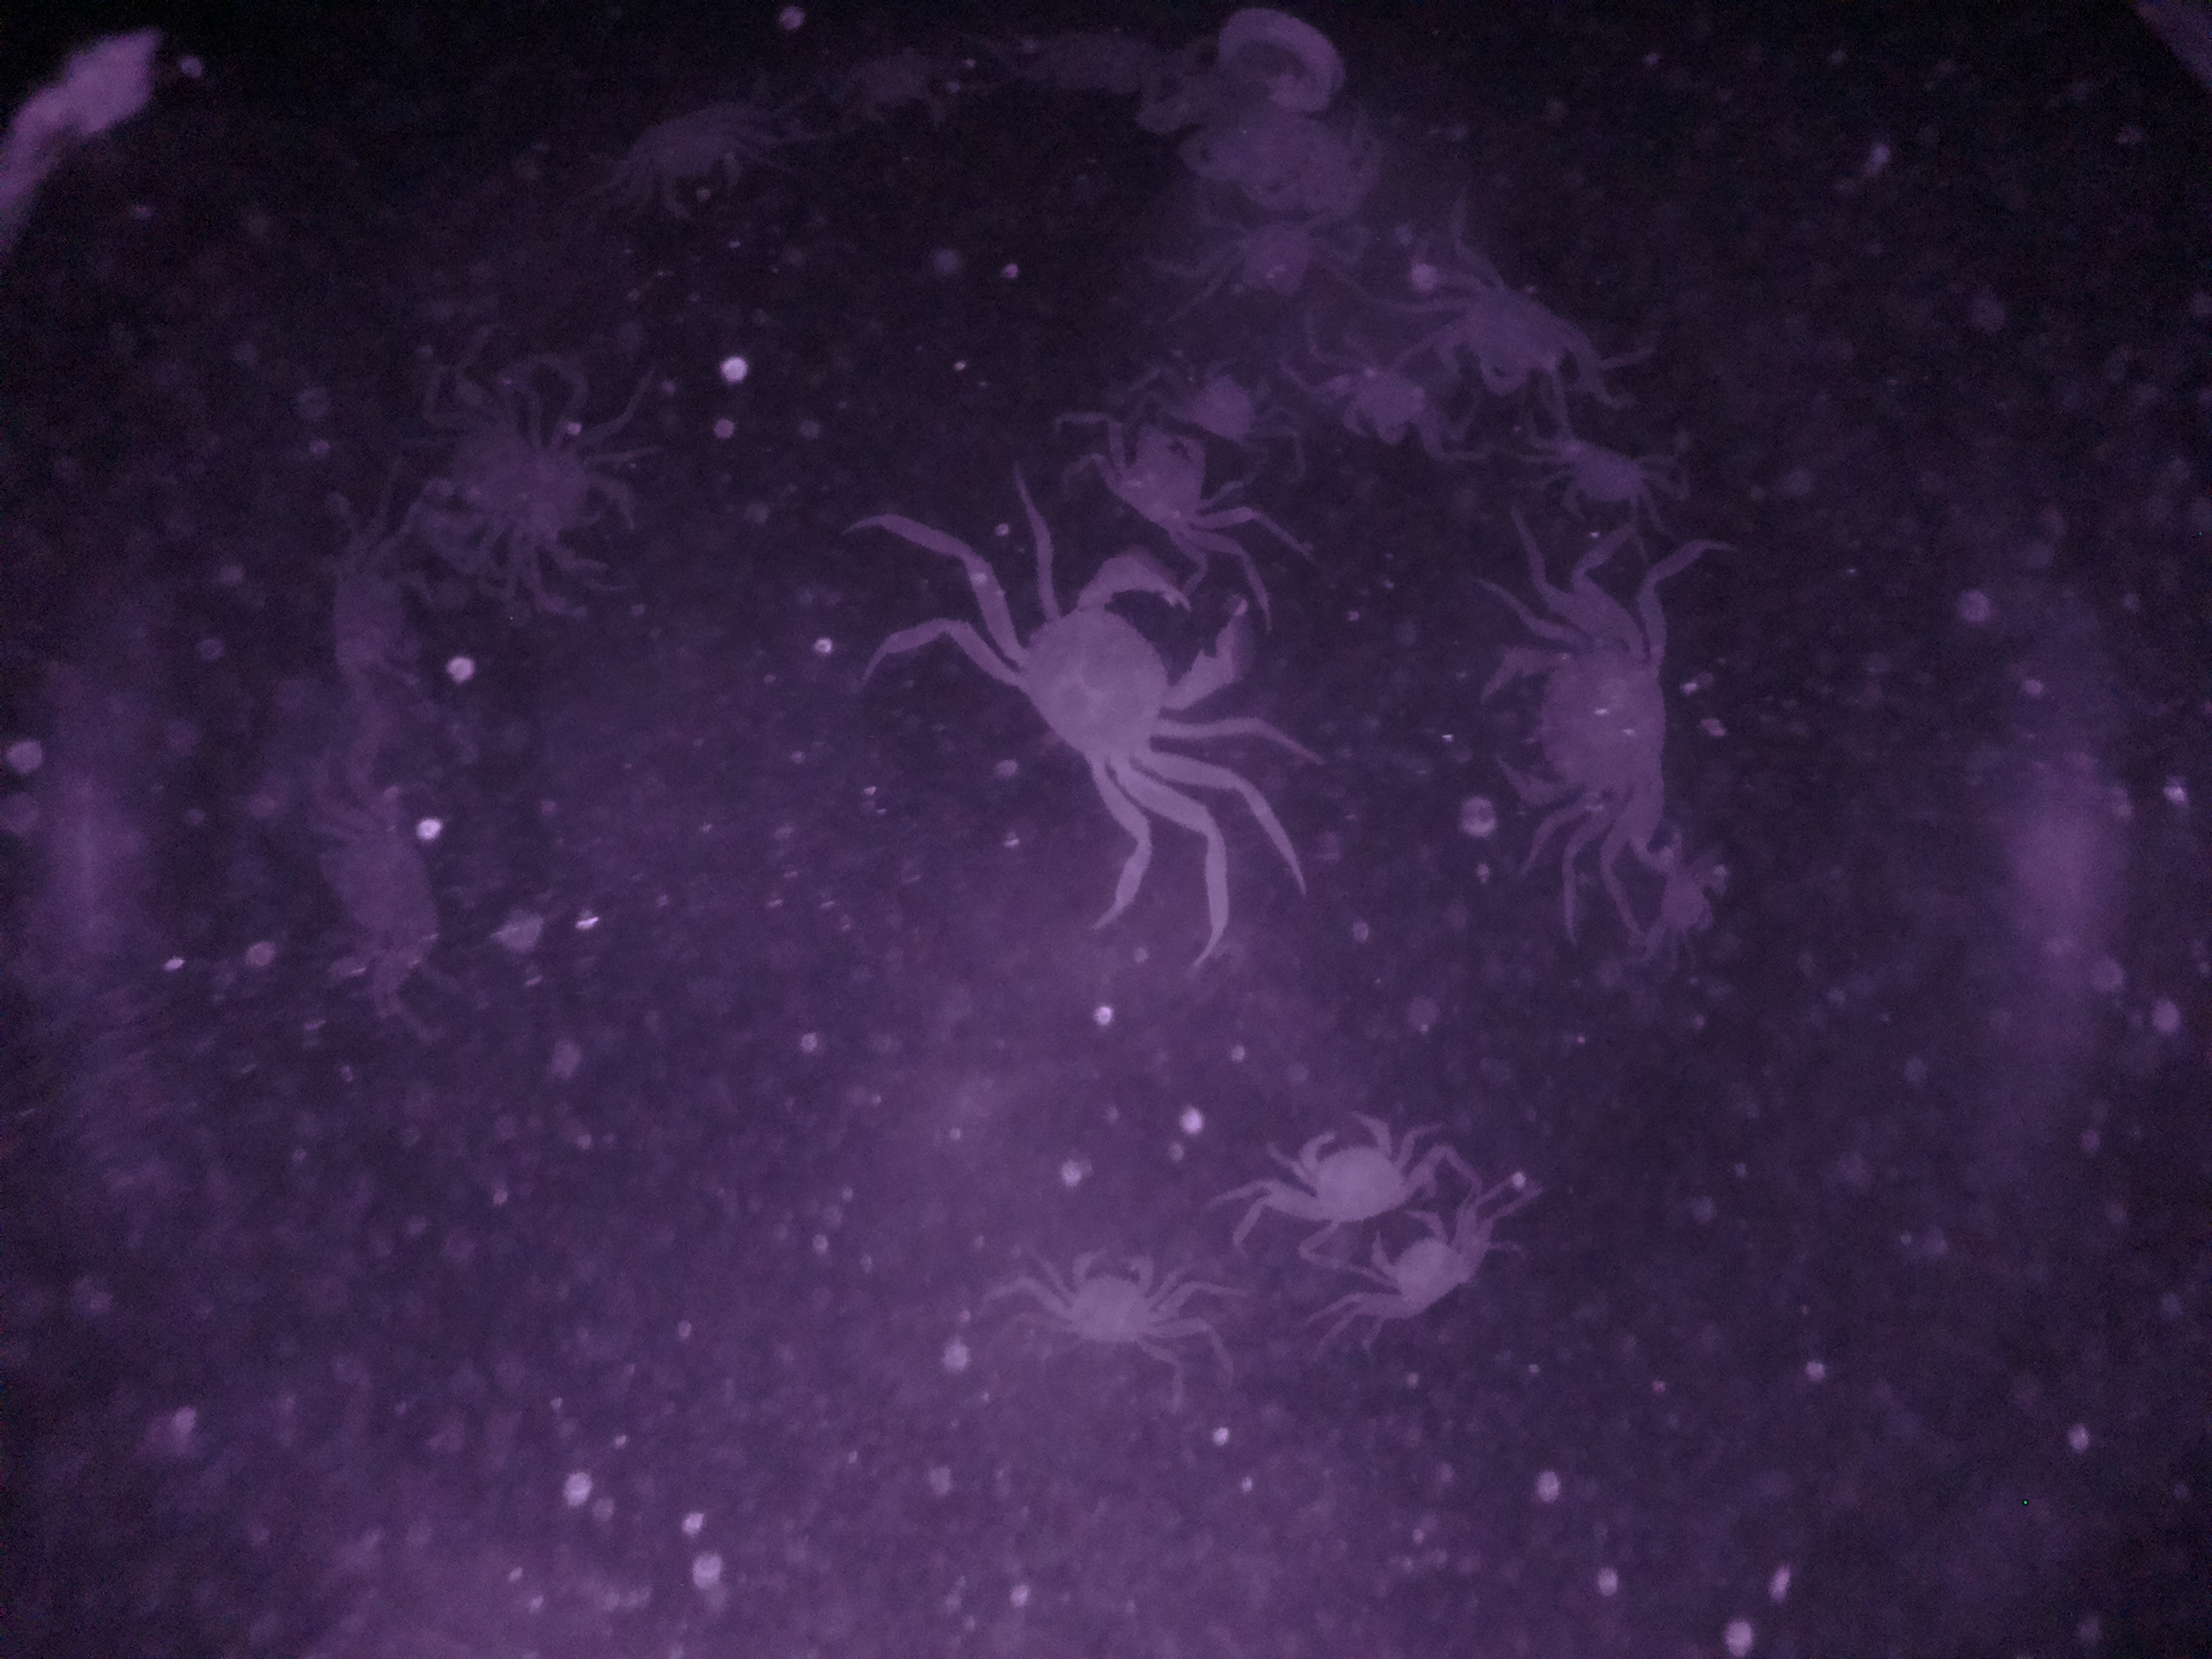Crab: (979, 549, 1256, 805), (1484, 603, 1674, 870), (1416, 268, 1599, 397), (1258, 1110, 1440, 1229), (1096, 408, 1245, 540), (1035, 1237, 1183, 1366), (1357, 1195, 1493, 1333)
